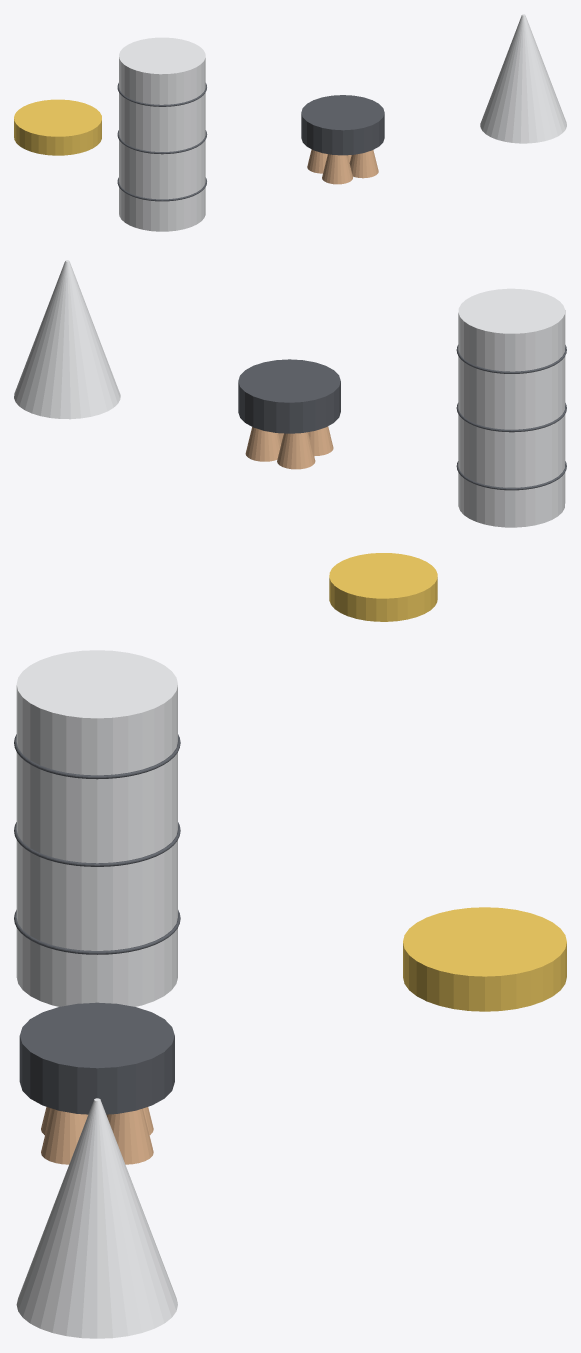
The model's file is rocket_parts.glb.
The picture shows the model from 3 angles, top to bottom: view 1: azimuth 30°, elevation 25°; view 2: azimuth 150°, elevation 25°; view 3: azimuth 270°, elevation 25°; orthographic projection. The views are drawn at different scales.
Parts seen in each view (by area): view 1: Part_Tank_Medium, Part_NoseCone_Ogive, Part_Engine_Cluster, Part_Decoupler, Cone.002, Cone.003, Cone.001, Torus.002; view 2: Part_Tank_Medium, Part_NoseCone_Ogive, Part_Engine_Cluster, Part_Decoupler, Cone.001, Cone, Cone.002; view 3: Part_Tank_Medium, Part_NoseCone_Ogive, Part_Engine_Cluster, Part_Decoupler, Cone.003, Cone, Torus, Torus.001, Torus.002.
Part boxes in pixels (x1,y1,x2,y2): Part_Tank_Medium: [119, 37, 205, 231]; Part_NoseCone_Ogive: [480, 14, 566, 143]; Part_Engine_Cluster: [301, 95, 384, 155]; Part_Decoupler: [14, 99, 101, 155]; Cone.002: [322, 154, 352, 184]; Cone.003: [349, 150, 378, 178]; Cone.001: [307, 149, 327, 173]; Torus.002: [117, 83, 206, 106]; Part_Tank_Medium: [458, 288, 565, 527]; Part_NoseCone_Ogive: [14, 260, 120, 419]; Part_Engine_Cluster: [238, 359, 340, 433]; Part_Decoupler: [329, 553, 437, 621]; Cone.001: [277, 432, 315, 469]; Cone: [245, 427, 281, 461]; Cone.002: [308, 426, 333, 456]; Part_Tank_Medium: [16, 650, 177, 1006]; Part_NoseCone_Ogive: [16, 1098, 177, 1338]; Part_Engine_Cluster: [19, 1002, 174, 1114]; Part_Decoupler: [403, 907, 566, 1011]; Cone.003: [41, 1108, 87, 1164]; Cone: [106, 1108, 153, 1164]; Torus: [14, 910, 180, 954]; Torus.001: [14, 822, 180, 866]; Torus.002: [14, 734, 180, 779].
Size of the model in its own units: 14.54 by 5 by 8.56.
